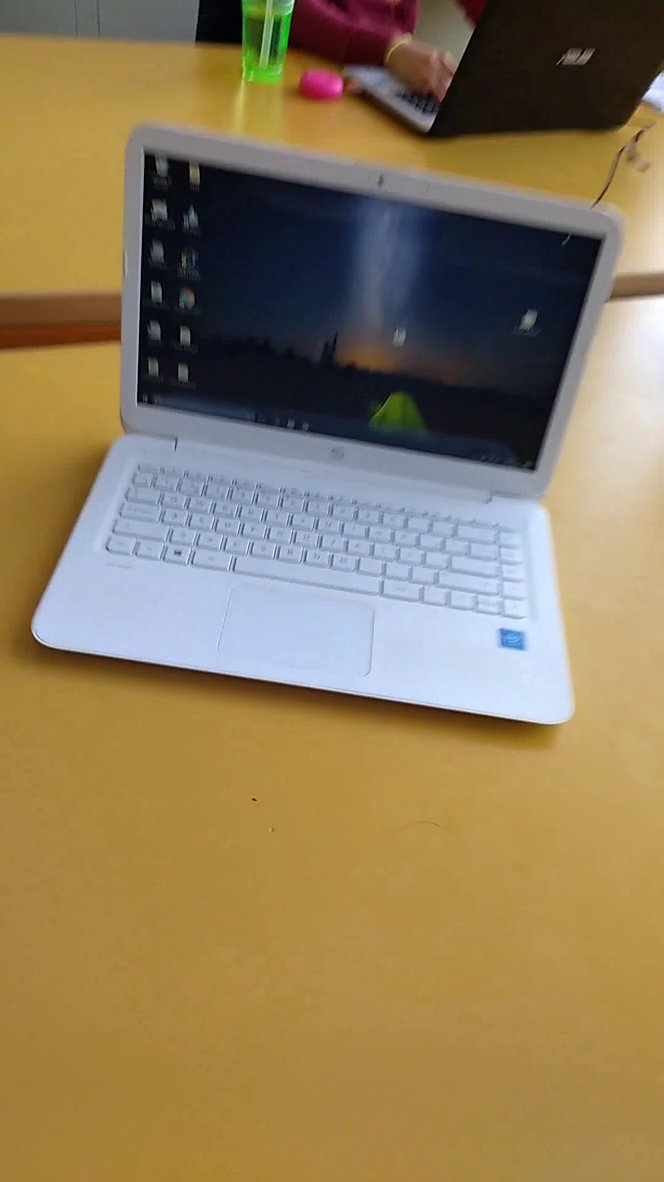laptop: (23, 102, 642, 780), (335, 2, 664, 154)
